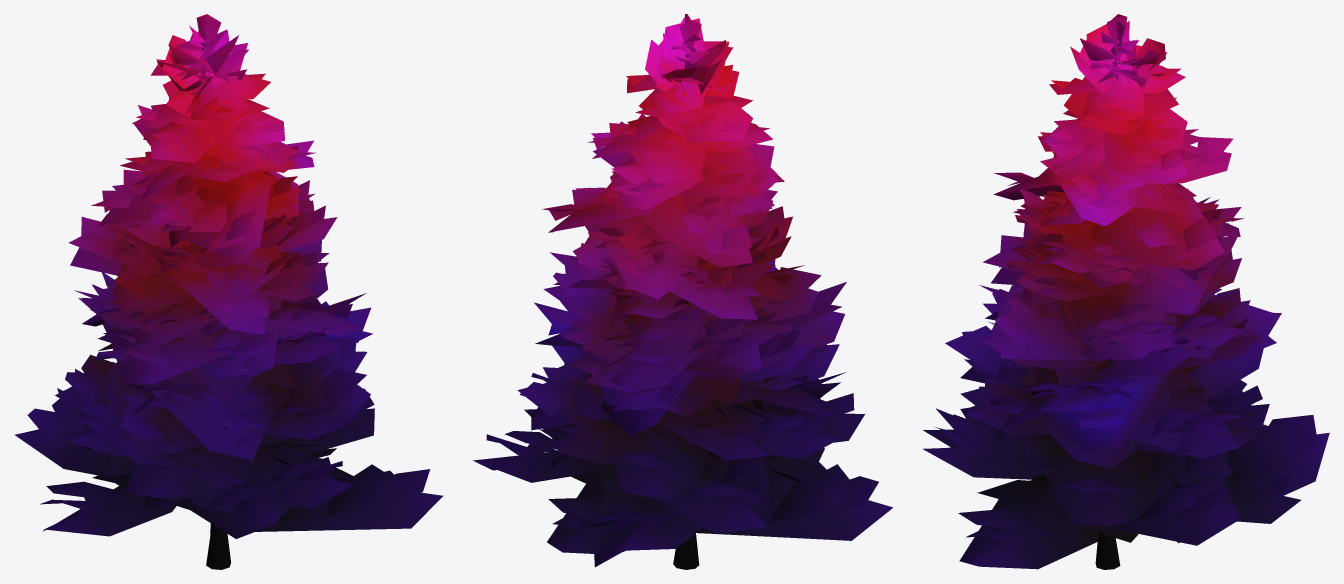
Rendered from Fir_02_Small_advanced.FBX.
3 views of the same model, side by side, from view 1: azimuth 30°, elevation 25°; view 2: azimuth 150°, elevation 25°; view 3: azimuth 270°, elevation 25° (orthographic).
Visible parts, largest first — view 1: Fir_02_leaves_LOD0, Fir_02_bark_LOD0; view 2: Fir_02_leaves_LOD0, Fir_02_bark_LOD0; view 3: Fir_02_leaves_LOD0, Fir_02_bark_LOD0.
Boxes of the visible parts, left/top/right/bottom form: Fir_02_leaves_LOD0: left=15, top=14, right=443, bottom=538; Fir_02_bark_LOD0: left=206, top=68, right=230, bottom=569; Fir_02_leaves_LOD0: left=473, top=14, right=893, bottom=567; Fir_02_bark_LOD0: left=673, top=58, right=699, bottom=569; Fir_02_leaves_LOD0: left=923, top=14, right=1329, bottom=569; Fir_02_bark_LOD0: left=1095, top=62, right=1120, bottom=569.
Size of what is drawn, in the model's own units: 4562 by 6830 by 4604.
